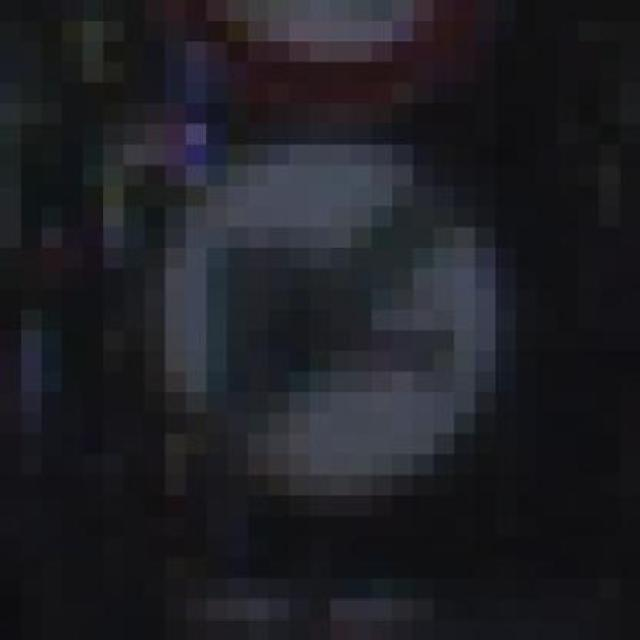Overtaking by trucks is prohibited: (82, 123, 578, 537)
